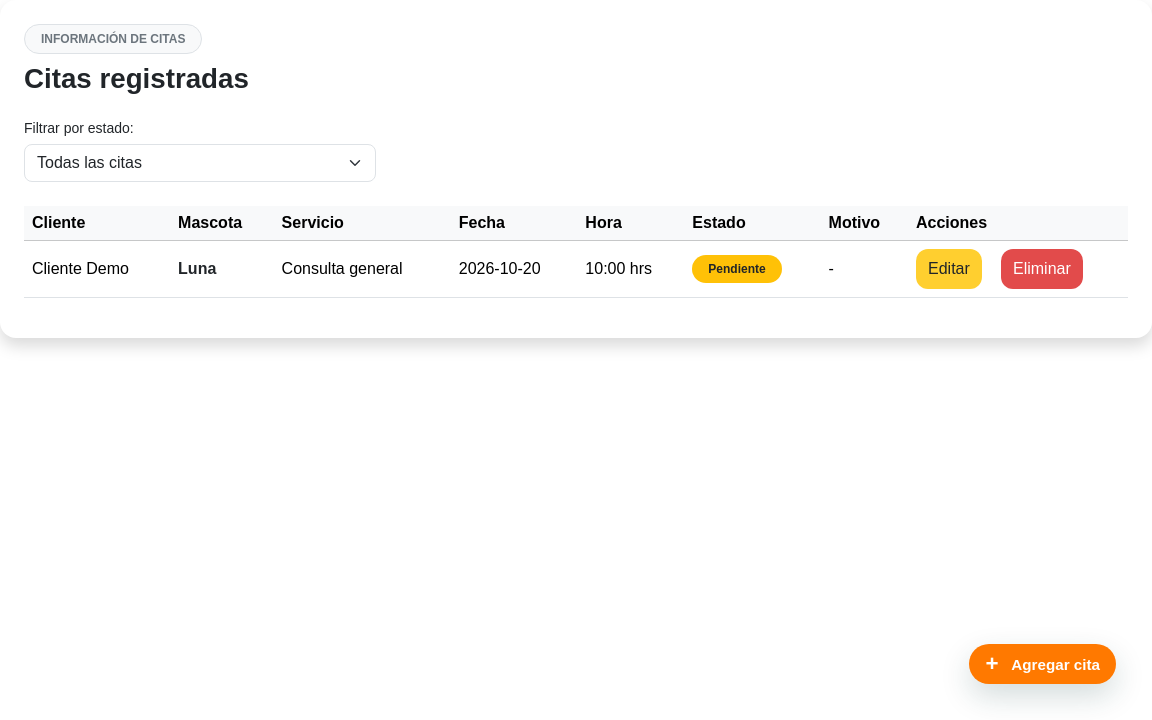
Test: elimina una cita al confirmar desde el diálogo de la página
The width and height of the screenshot is (1152, 720).
Click the button "Eliminar" at coordinates (1042, 269), box [1001,249,1083,289]
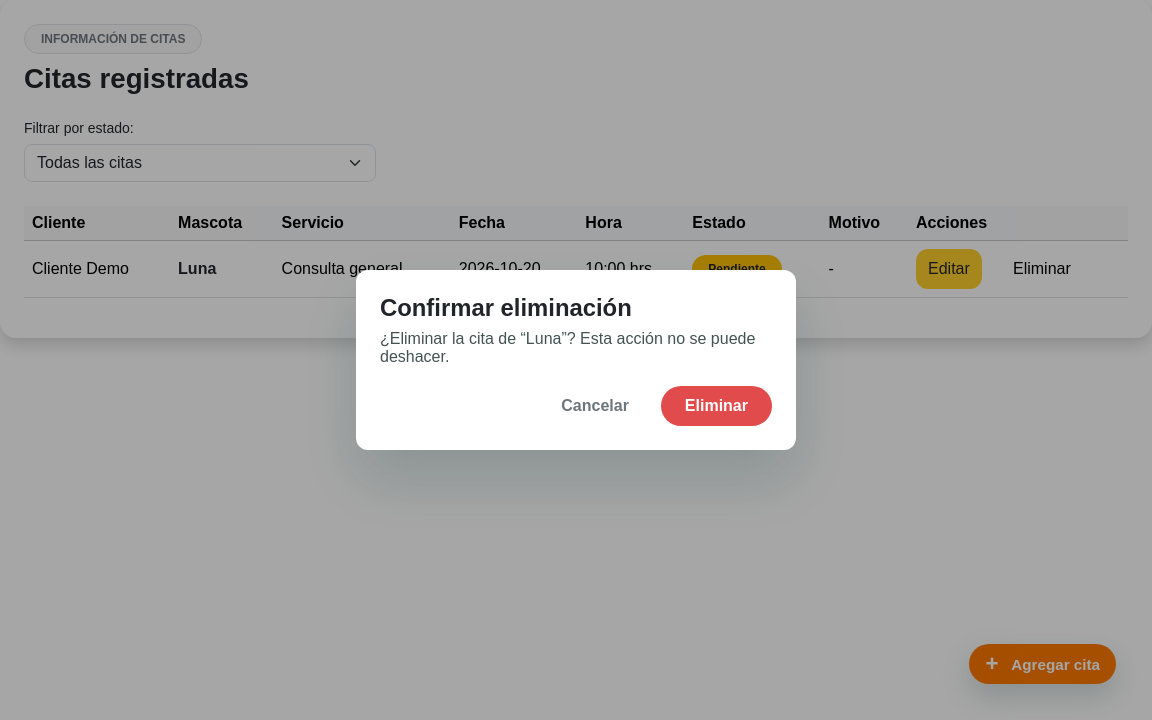
Click the button with class "btn-delete" showing "Eliminar" at coordinates (716, 406), box [661,386,772,426]
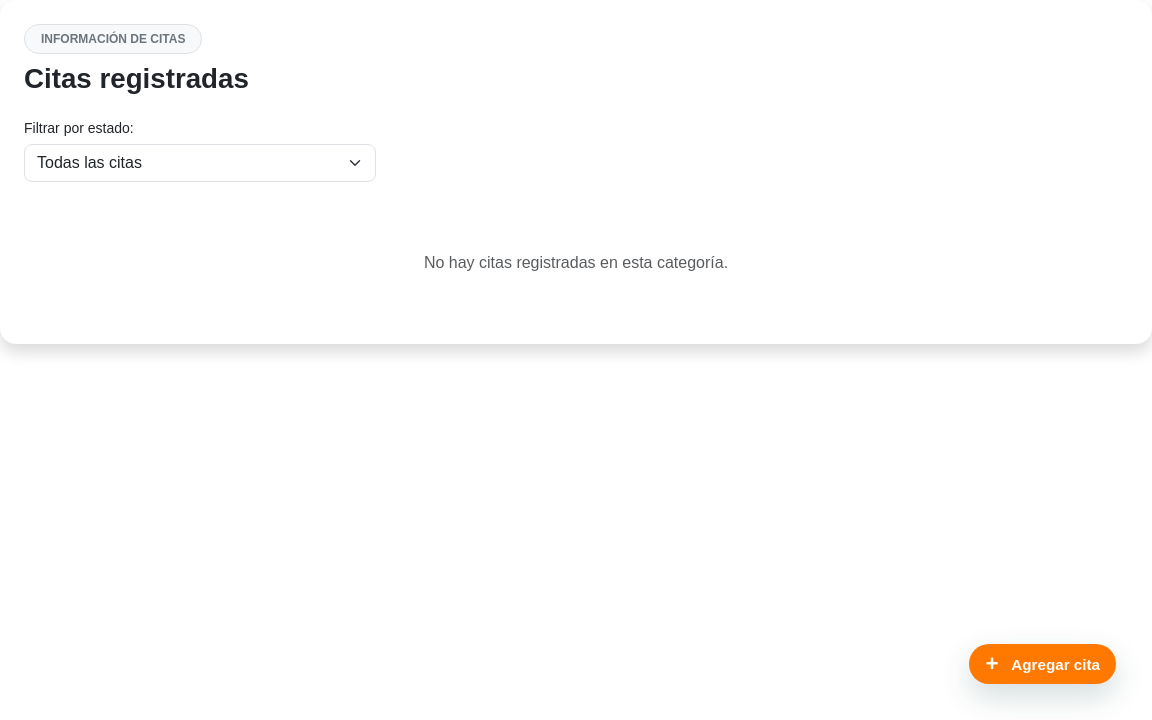
Expected: the text "Luna" is gone
